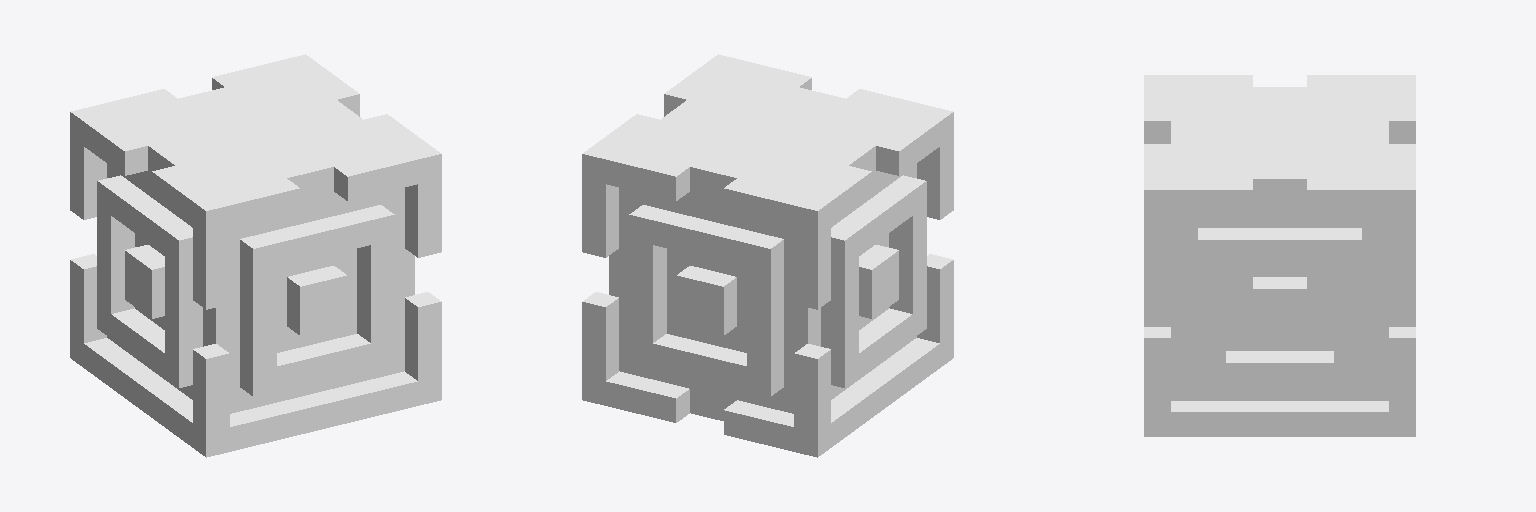
The model's file is CannonTurretBase.obj.
3 renders of one model, left to right at view 1: azimuth 30°, elevation 25°; view 2: azimuth 150°, elevation 25°; view 3: azimuth 270°, elevation 25°, orthographic.
Size of the model in its own units: 10 by 10 by 10.